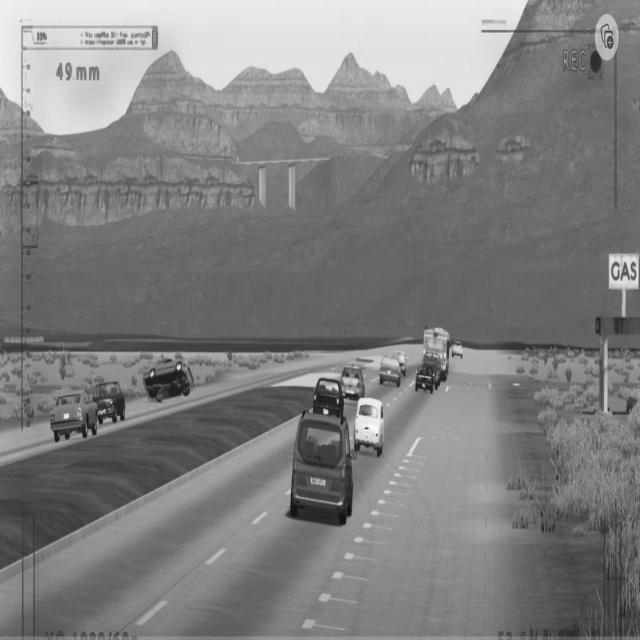accident: (142, 353, 197, 411)
vehicle: (290, 408, 356, 528), (49, 385, 98, 442), (91, 375, 128, 426), (353, 395, 385, 453), (309, 373, 347, 421), (337, 360, 367, 408), (377, 353, 404, 390), (415, 360, 436, 398)
